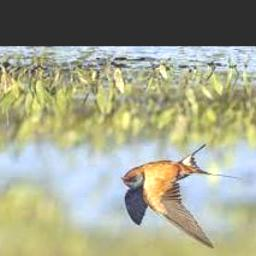Swallow: (121, 143, 242, 249)
